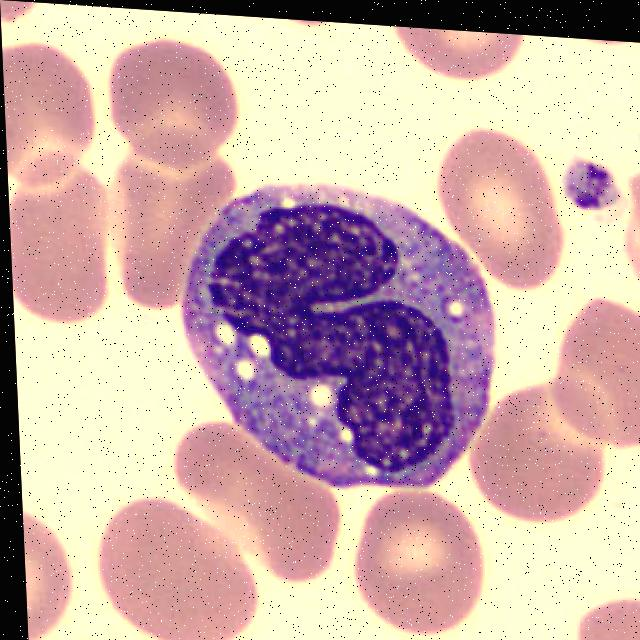monocyte: (140, 150, 510, 496)
platelets: (550, 146, 621, 225)
rbc: (174, 415, 354, 596), (86, 493, 264, 640), (432, 124, 569, 304), (111, 134, 230, 333), (470, 376, 616, 533), (344, 486, 486, 640), (102, 30, 245, 178), (7, 146, 115, 336), (535, 269, 640, 453), (2, 39, 100, 197), (373, 25, 531, 95), (22, 502, 78, 640), (572, 591, 640, 640), (618, 161, 640, 301)
